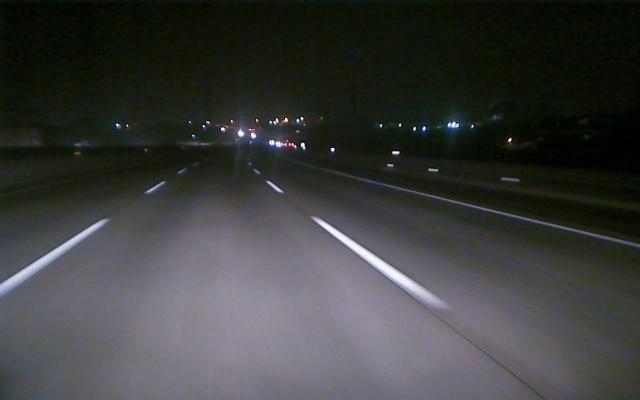lane: (265, 181, 454, 310), (334, 172, 637, 249), (2, 184, 159, 296)
